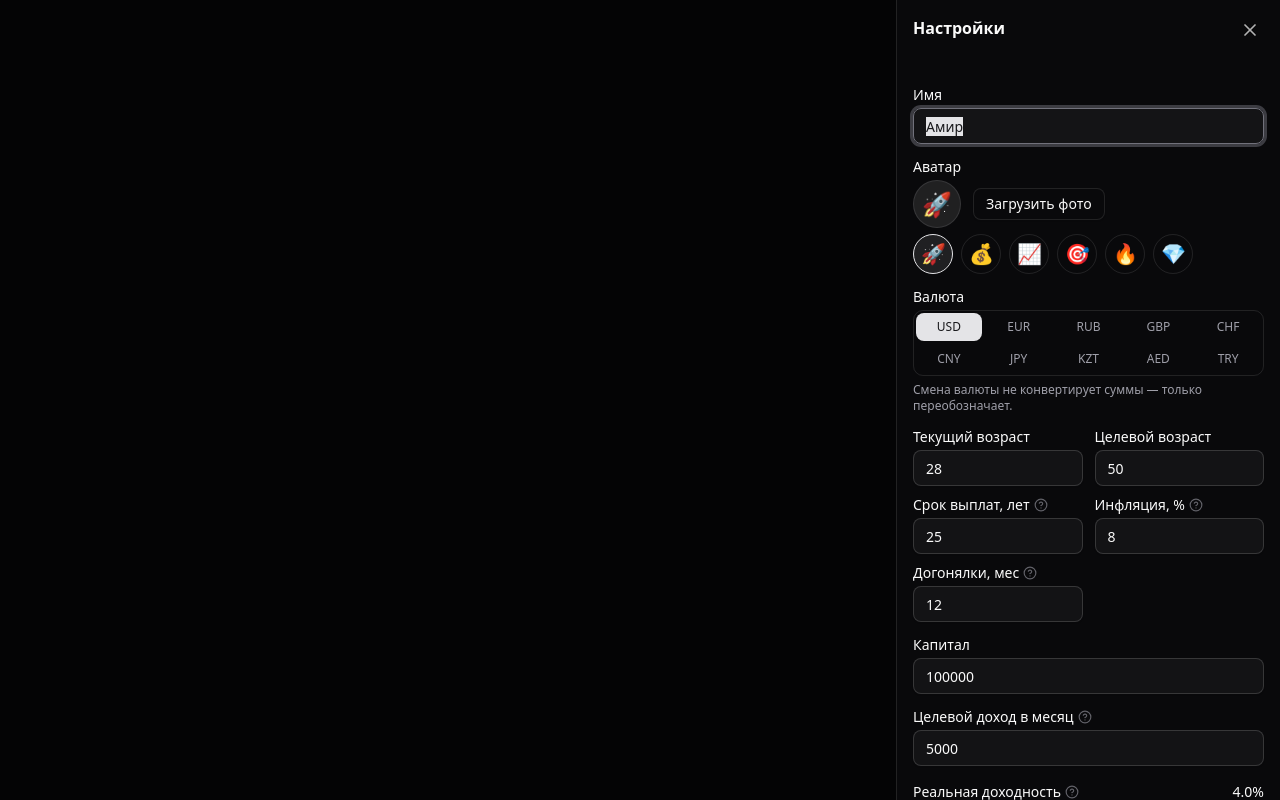
it: SettingsSheet › blocks invalid target age
Step 1. Replace the text in the number field labelled "Целевой возраст" with "20" → x=1179, y=468, box [1094,450,1264,486]
(page scrolled)
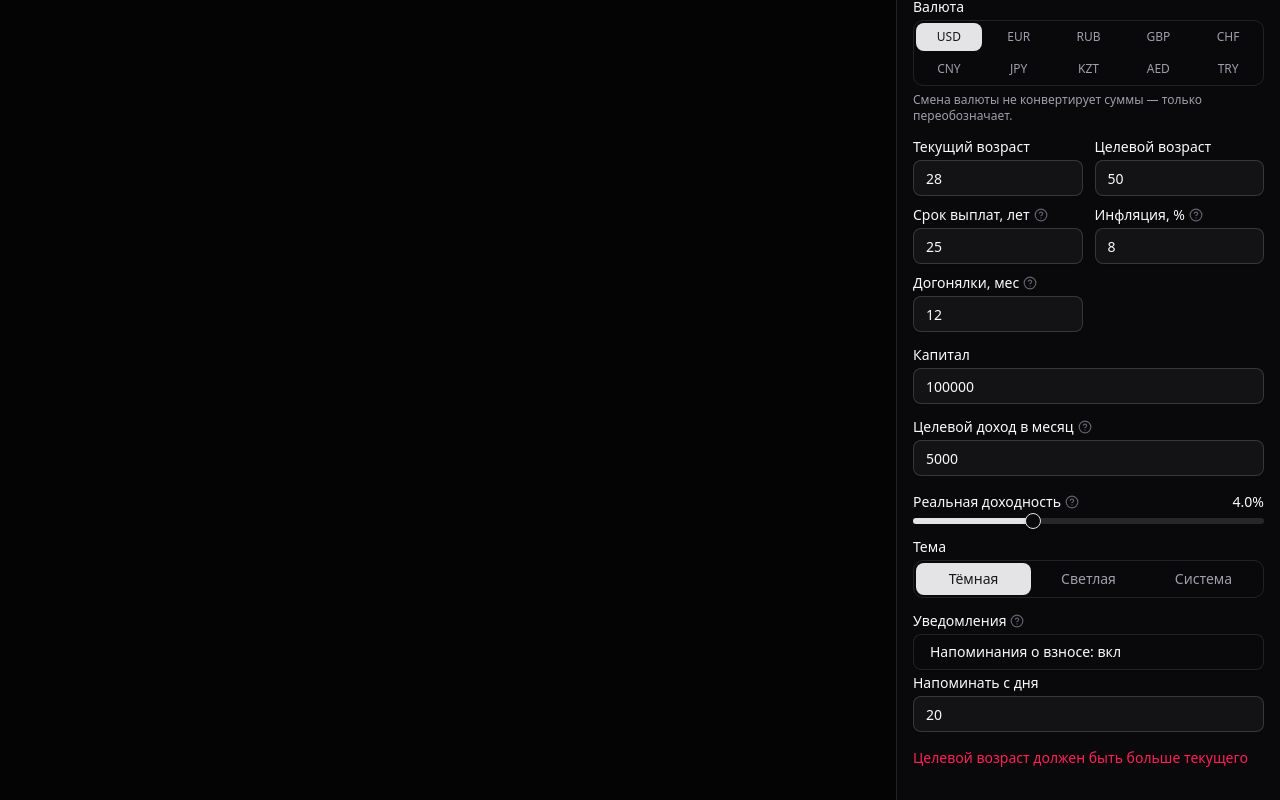
expect the text "Целевой возраст должен быть больше текущего" is shown: met, box [913,748,1264,768]
